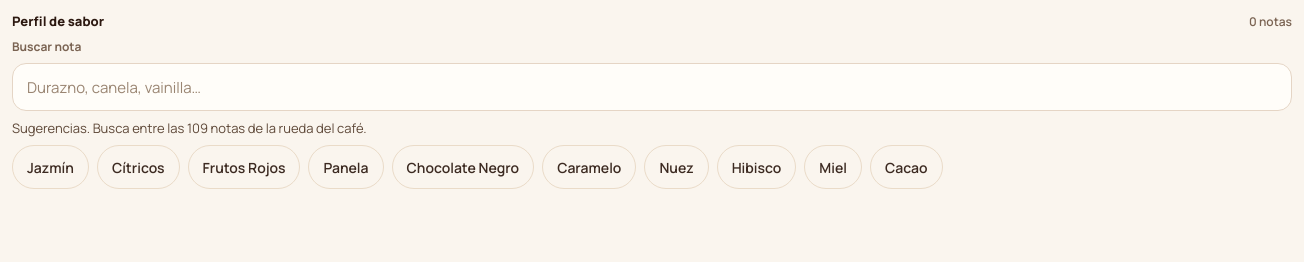
Test: NotaPicker › Enter elige la mejor coincidencia
This screenshot has width=1304, height=262.
Type "vainilla" into the search field labelled "Buscar nota" at (652, 87), box [12,63,1292,111]
Then press Enter
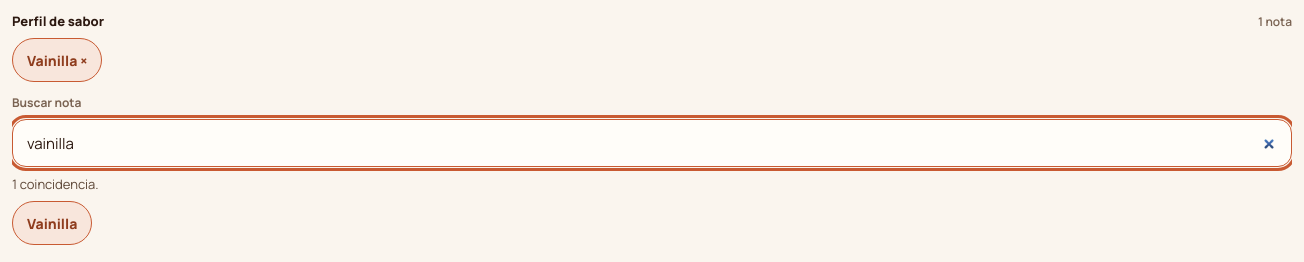
Result: the button with aria-label "Quitar nota Vainilla" is shown at [12,38,102,82]
